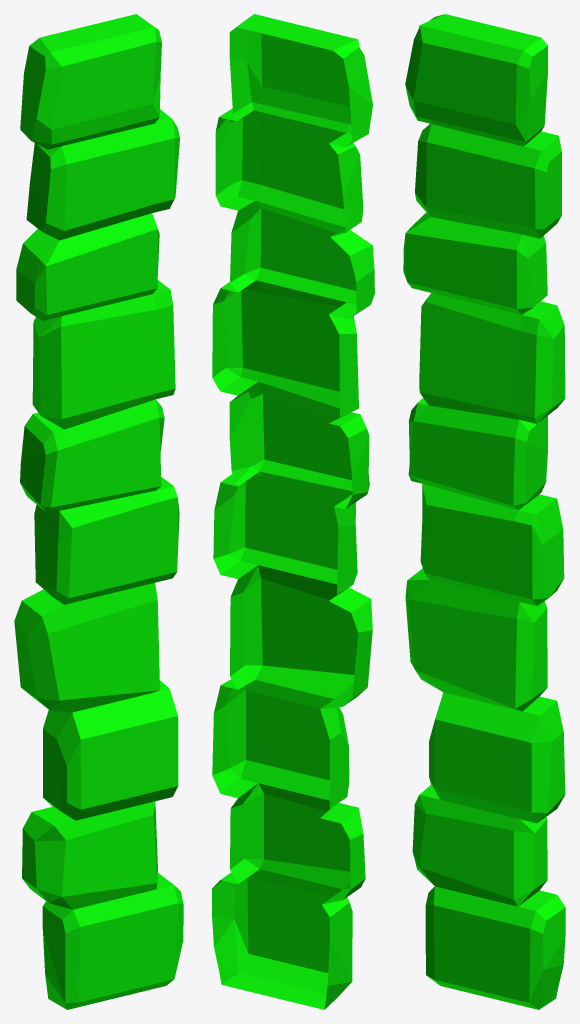
File: SM_Wall_Decor_Middle_Stone_Out_3m.fbx
3 views of the same model, side by side, from view 1: azimuth 30°, elevation 25°; view 2: azimuth 150°, elevation 25°; view 3: azimuth 330°, elevation 25° (orthographic).
Parts seen in each view (by area): view 1: wall-decor-middle-stone-out-3m; view 2: wall-decor-middle-stone-out-3m; view 3: wall-decor-middle-stone-out-3m.
Part boxes in pixels (x1,y1,x2,y2): wall-decor-middle-stone-out-3m: [14, 14, 183, 1009]; wall-decor-middle-stone-out-3m: [212, 14, 374, 1009]; wall-decor-middle-stone-out-3m: [403, 14, 565, 1009].
Size of the model in its own units: 0.4855 by 3.03 by 0.1509.
